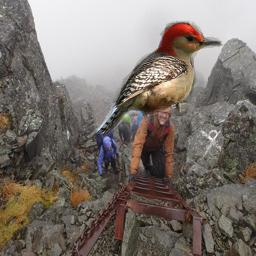Woodpecker: (89, 20, 225, 138)
